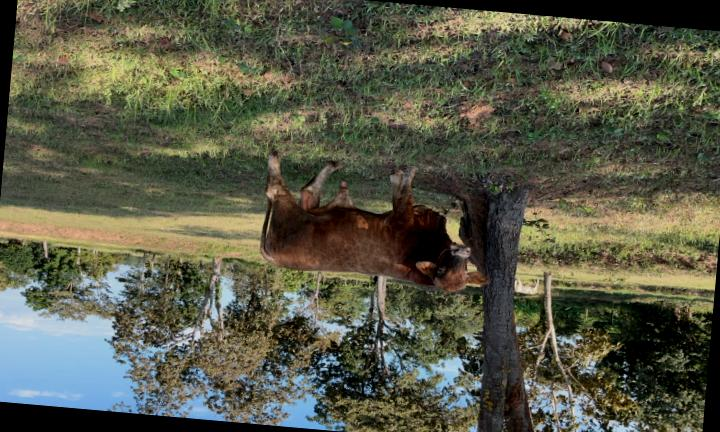Charolais: (260, 152, 489, 291)
